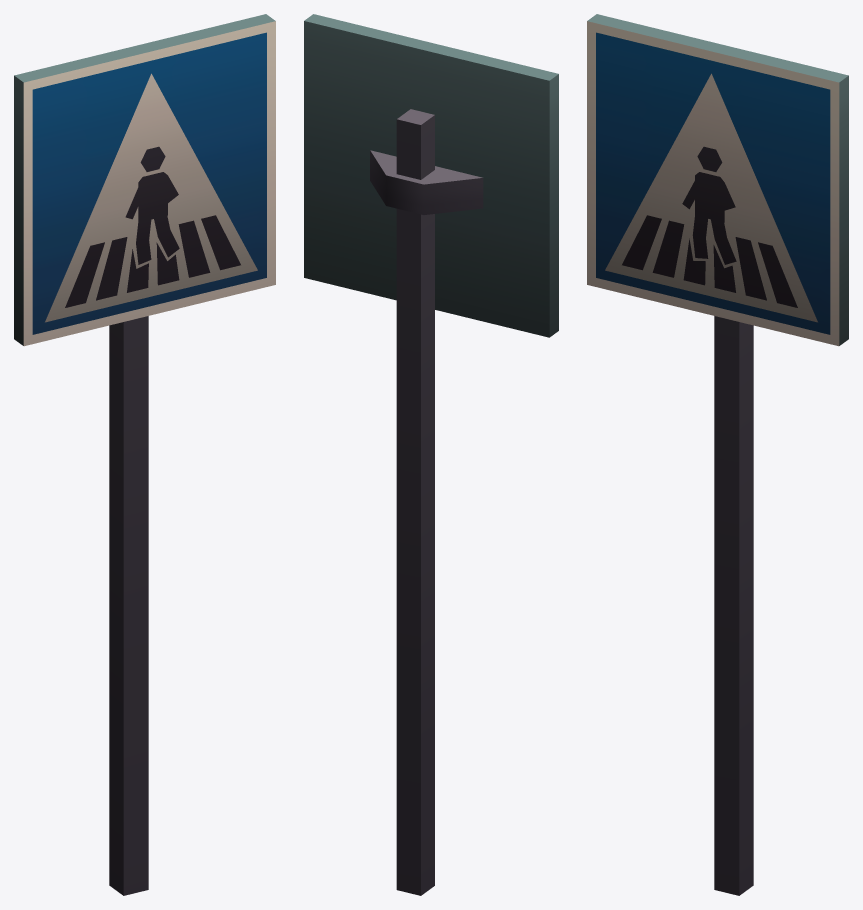
The model's file is Streetsign_2A.fbx.
3 renders of one model, left to right at view 1: azimuth 30°, elevation 25°; view 2: azimuth 150°, elevation 25°; view 3: azimuth 330°, elevation 25°, orthographic. The views are drawn at different scales.
Parts seen in each view (by area): view 1: Streetsign_2A; view 2: Streetsign_2A; view 3: Streetsign_2A.
Part boxes in pixels (x1,y1,x2,y2): Streetsign_2A: (14, 14, 275, 895); Streetsign_2A: (304, 14, 558, 895); Streetsign_2A: (587, 14, 848, 895).
Size of the model in its own units: 90 by 290 by 21.83.
